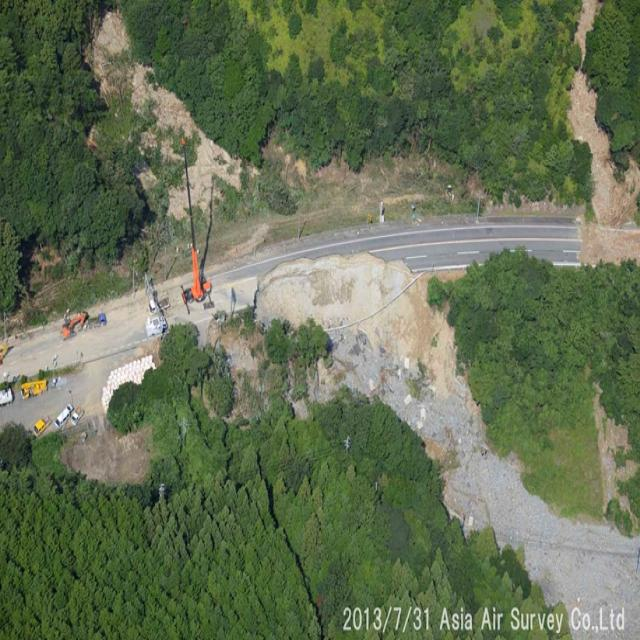Debris-flow: (255, 253, 640, 637), (570, 73, 640, 262), (64, 420, 149, 484), (595, 394, 638, 503), (132, 68, 190, 127), (231, 336, 254, 371)
